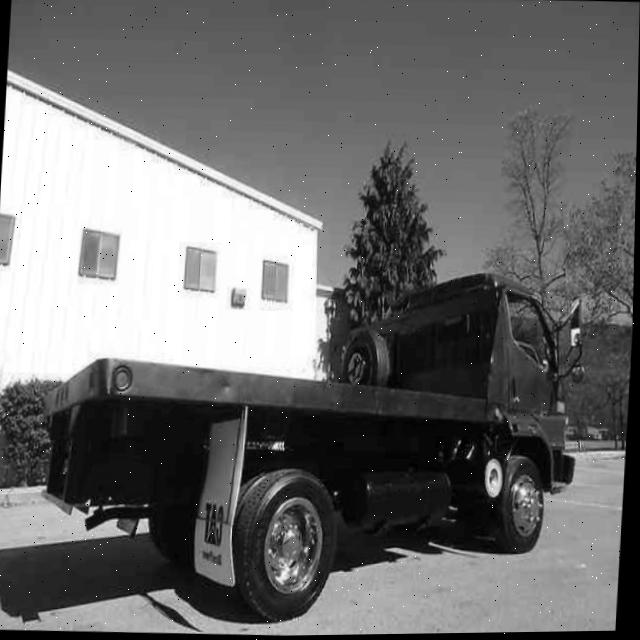truck: (35, 254, 589, 632)
